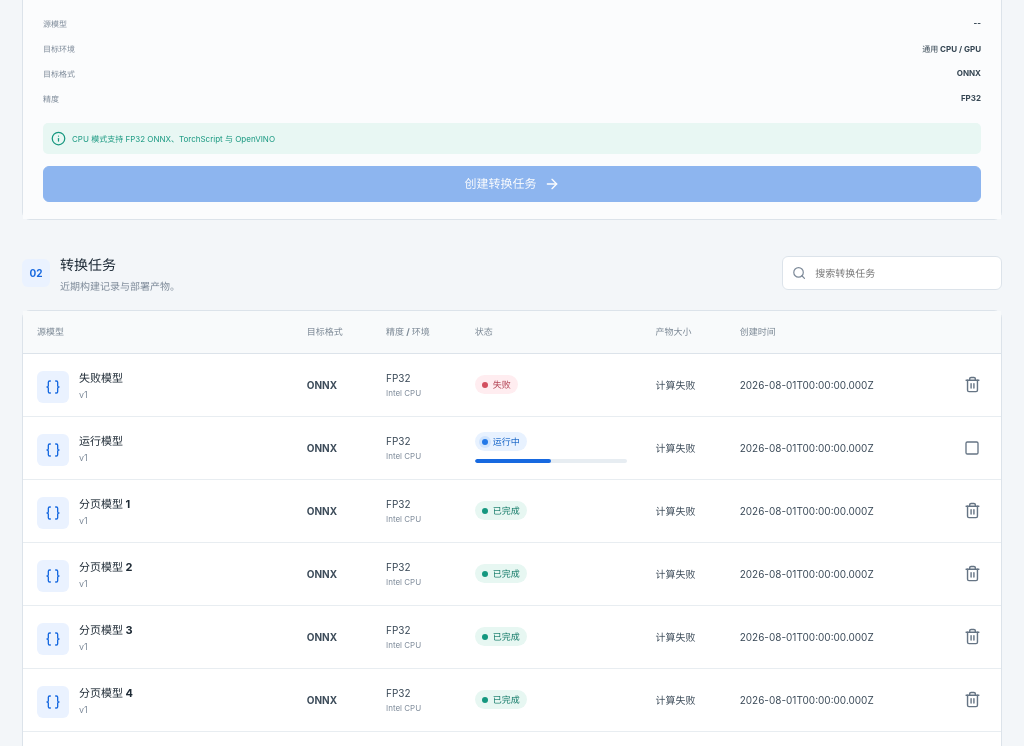
Test: ConversionsPage task list › deletes a terminal conversion after confirmation and hides deletion for running tasks
The image size is (1024, 746).
(page scrolled)
Click the button named "删除 失败模型 ONNX 转换" at (972, 384), box [955,368,989,402]
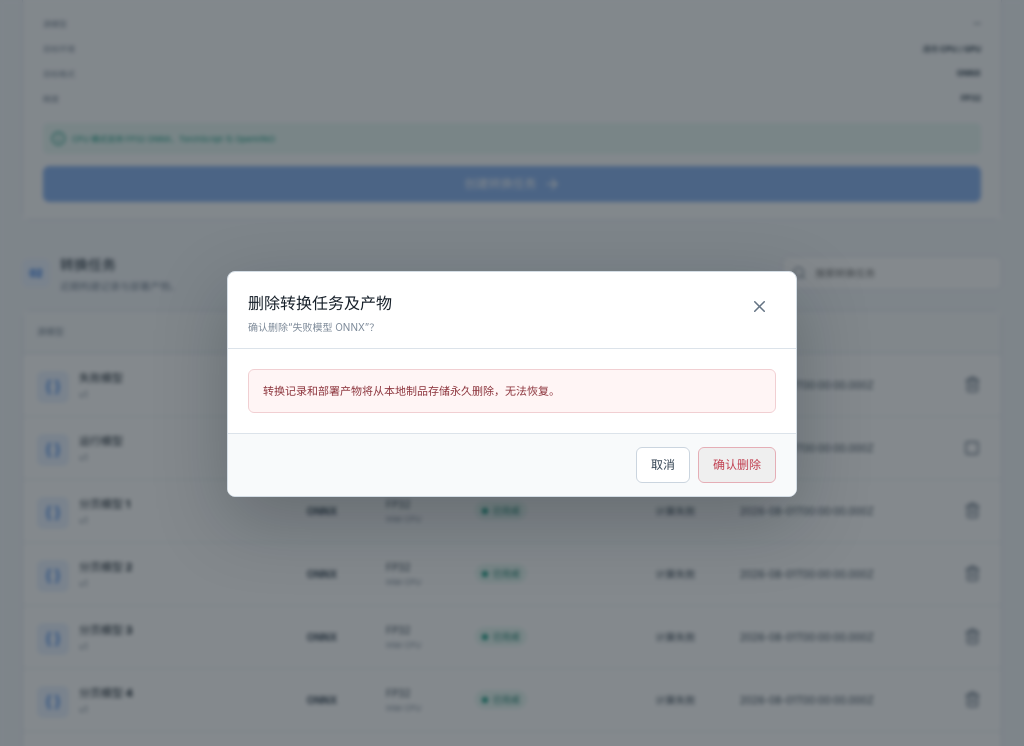
Check: the heading "删除转换任务及产物" is shown, box [248,290,392,314]
Check: the text "转换记录和部署产物将从本地制品存储永久删除，无法恢复。" is shown, box [248,369,776,413]
Click the button "确认删除" at (737, 465), box [698,447,776,483]
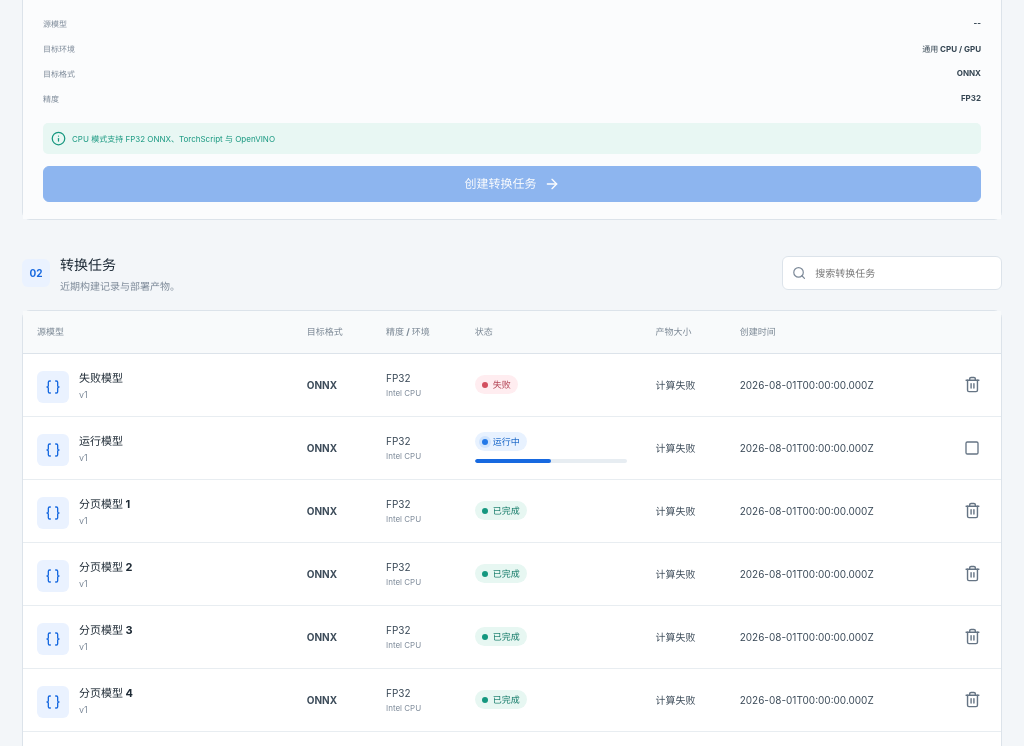
Check: the heading "删除转换任务及产物" is gone
